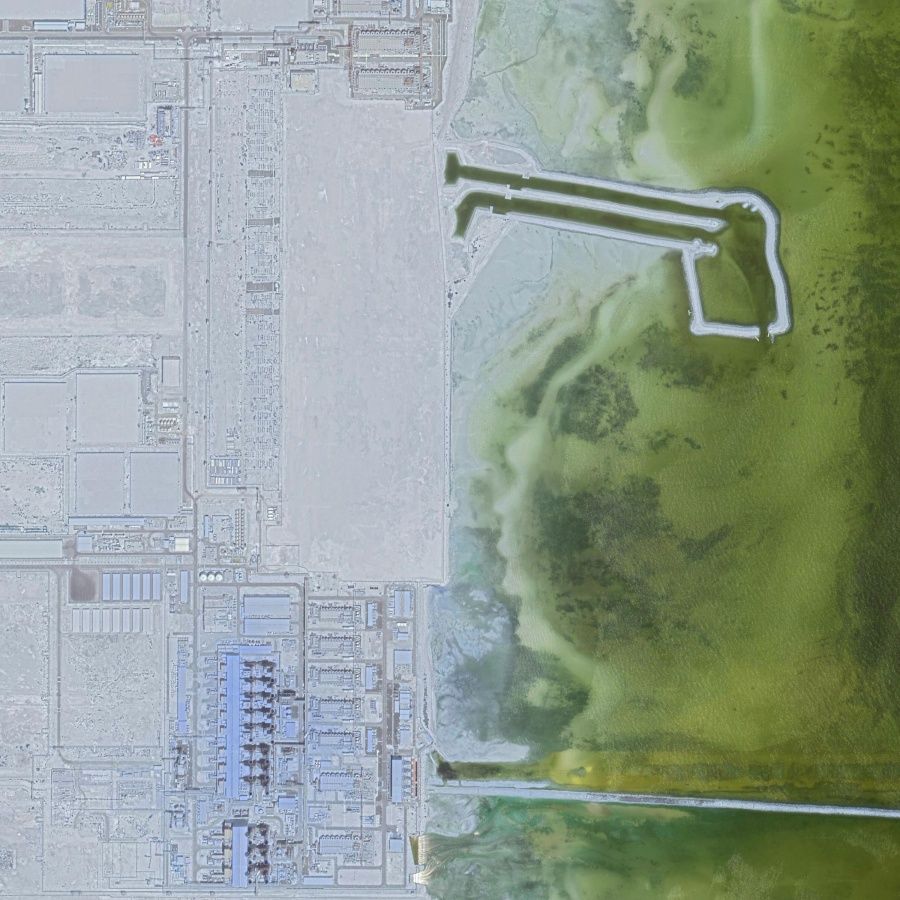PowerPlant: (188, 562, 448, 888)
